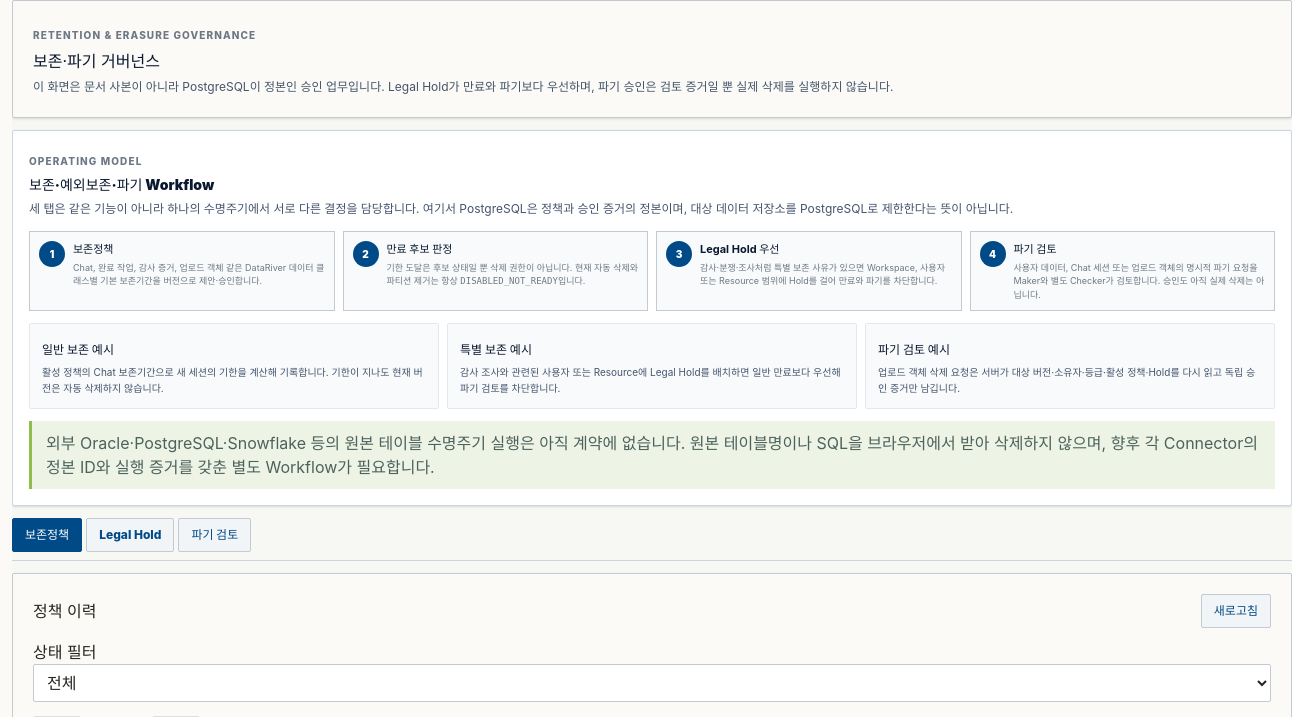
RetentionGovernanceAdmin › explains the provider-neutral lifecycle and switches the three distinct workflows
Expected: the heading "보존·예외보존·파기 Workflow" is shown, top-left (29, 176), bottom-right (214, 193)
Expected: the text "대상 데이터 저장소를 PostgreSQL로 제한한다는 뜻이 아닙니다" is shown, top-left (29, 201), bottom-right (1013, 216)
Press ArrowRight in the tab "보존정책", box top-left (12, 518), bottom-right (82, 552)
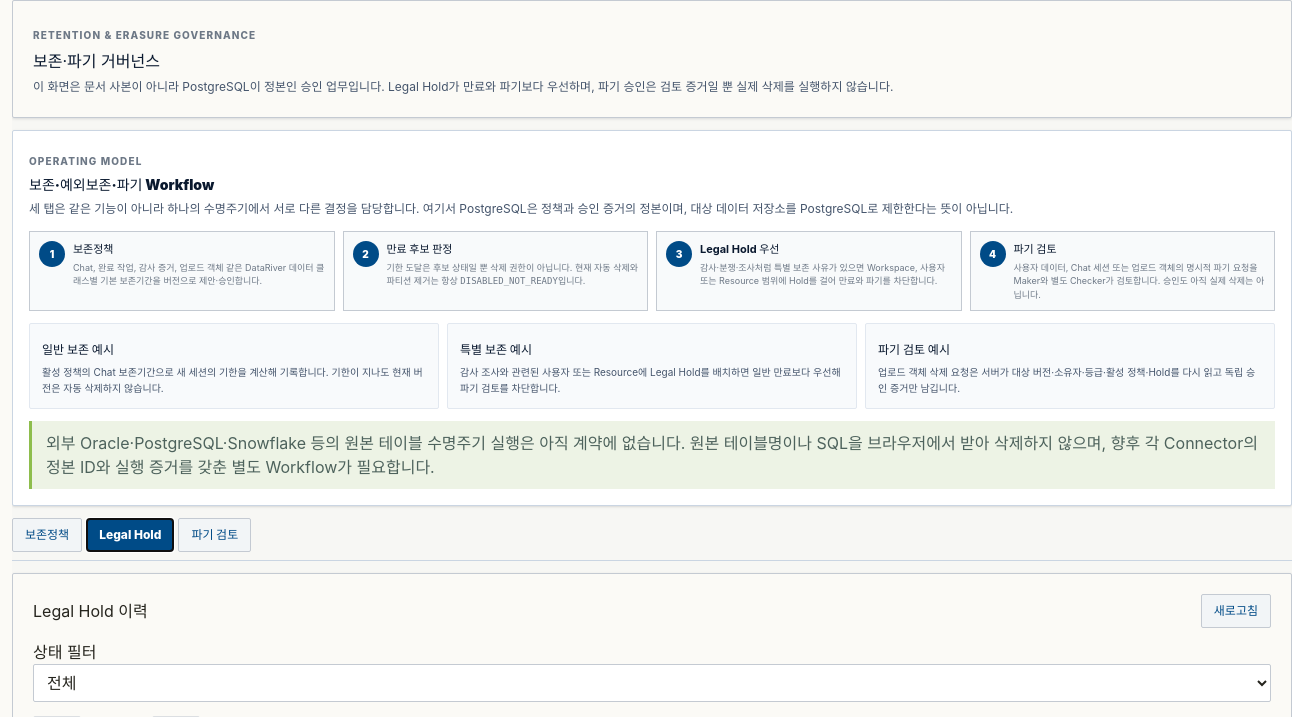
Result: the heading "Legal Hold 이력" is shown at top-left (33, 599), bottom-right (148, 623)
Click the tab "파기 검토" at point(215, 535), box top-left (178, 518), bottom-right (251, 552)
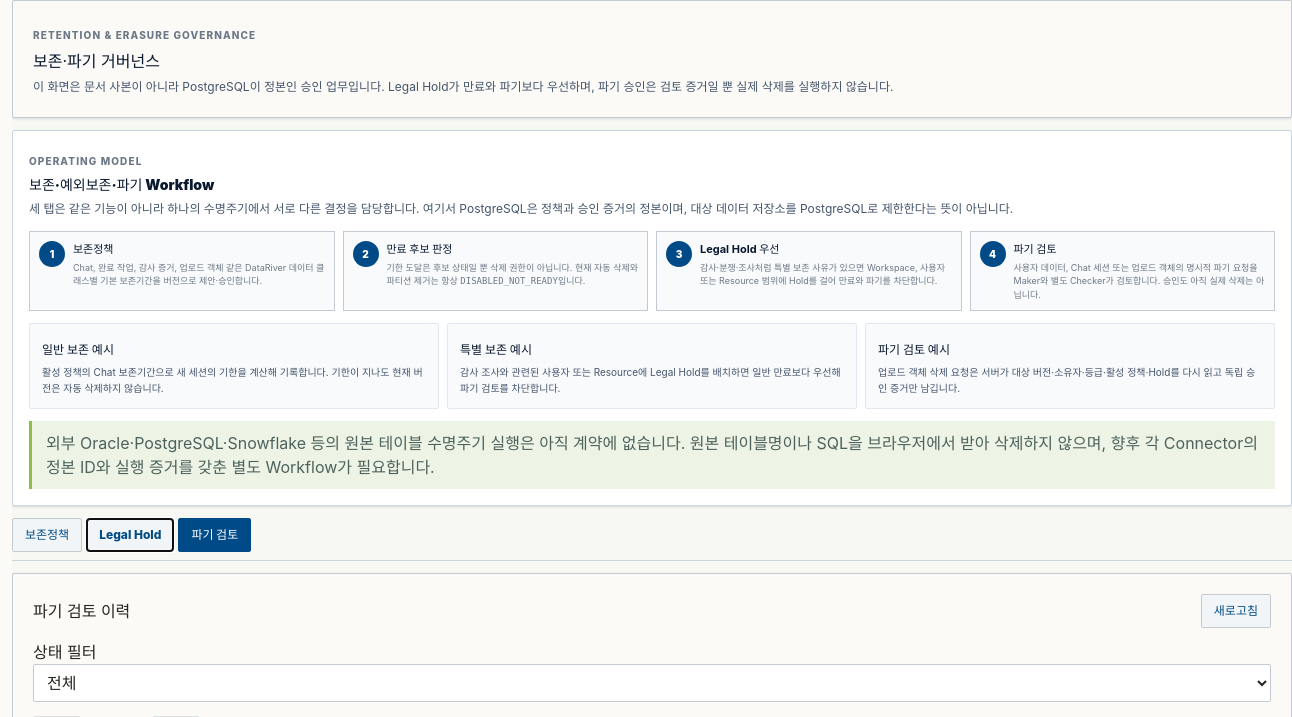
Result: the heading "파기 검토 이력" is shown at top-left (33, 599), bottom-right (130, 623)
